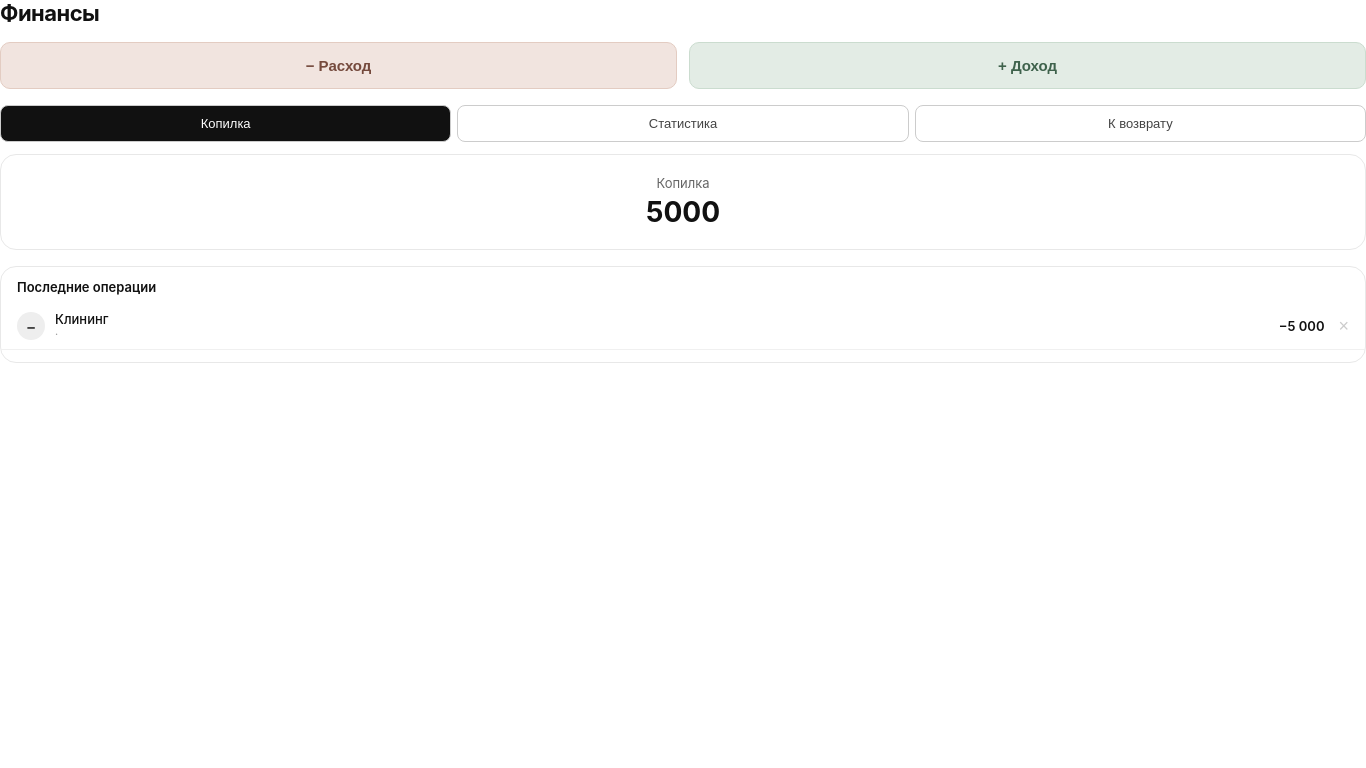
Test: late identity lookup does not replace a chosen payer or the bank label
Click the button "− Расход". click: [338, 66]
box: [0,42,677,89]
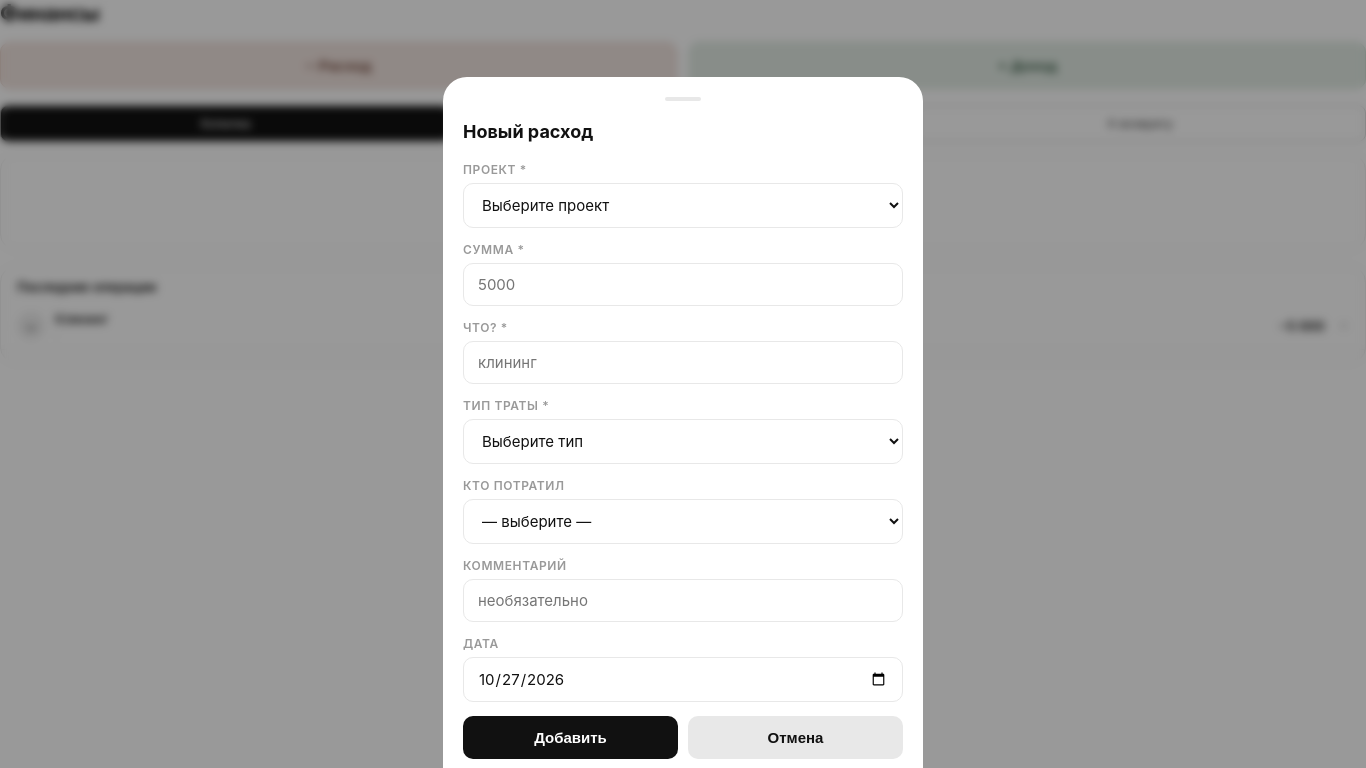
Select "Анна Иванова" in the dropdown with id "expense-who". click: [683, 521]
box: [463,499,903,544]
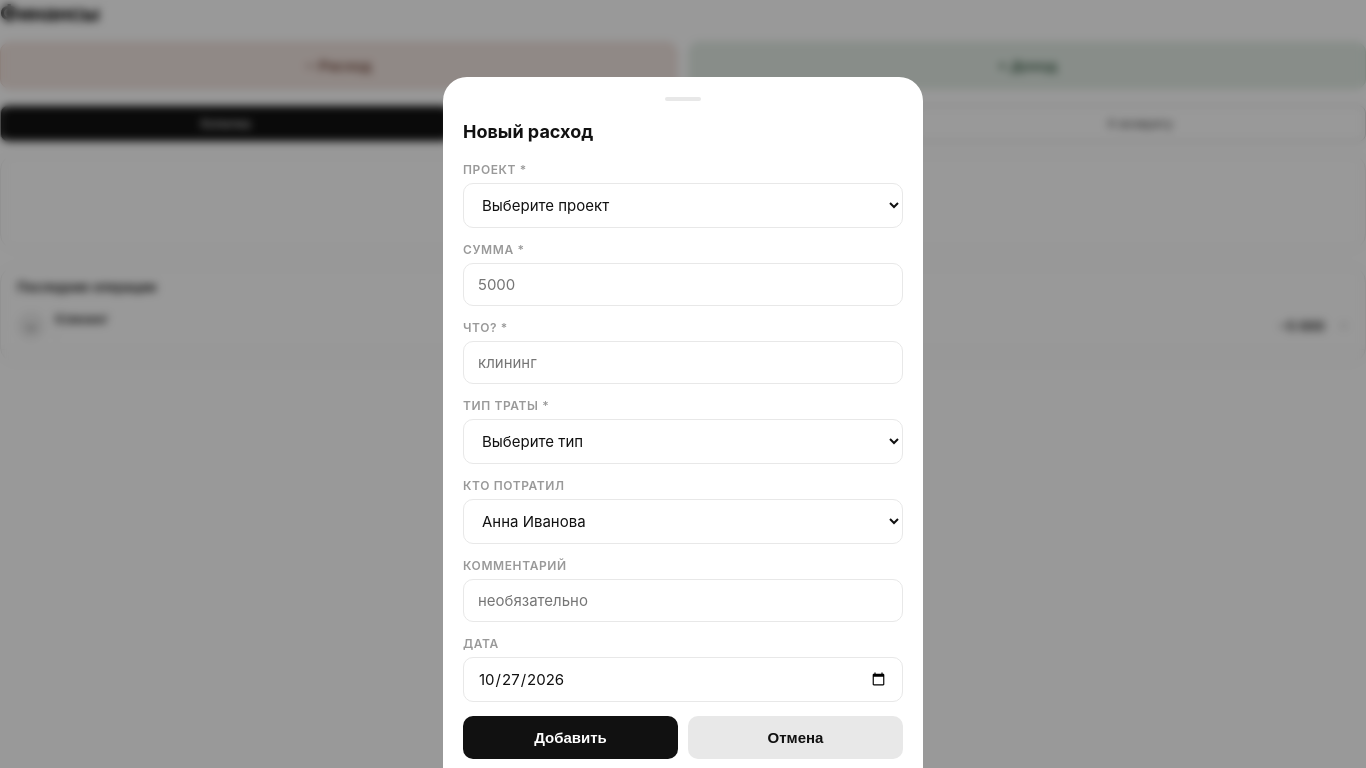
Select "Трата со счета ФоШу" in the dropdown with id "expense-type". click: [683, 441]
box: [463,419,903,464]
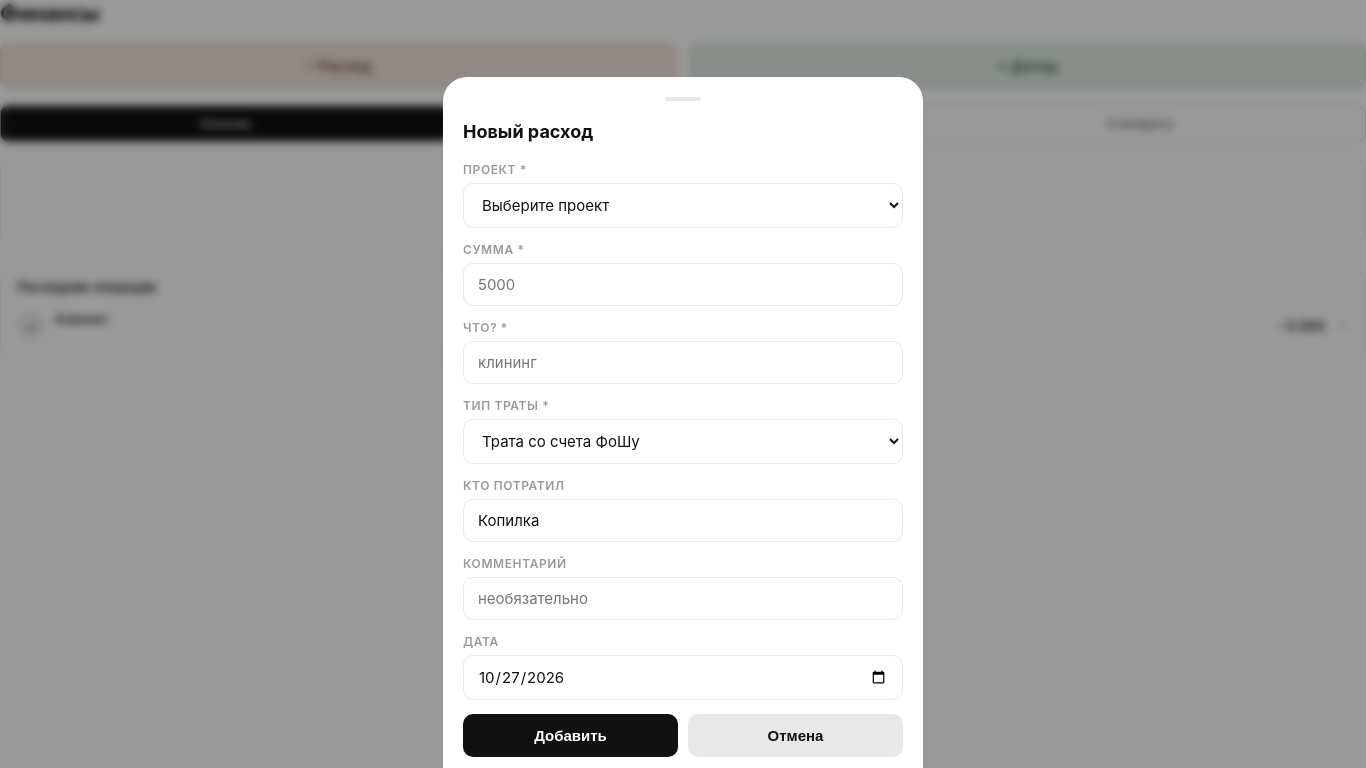
Result: the field with id "expense-who" holds "Копилка" at [463,499,903,542]
Select "Личные траты" in the dropdown with id "expense-type". click: [683, 441]
box: [463,419,903,464]
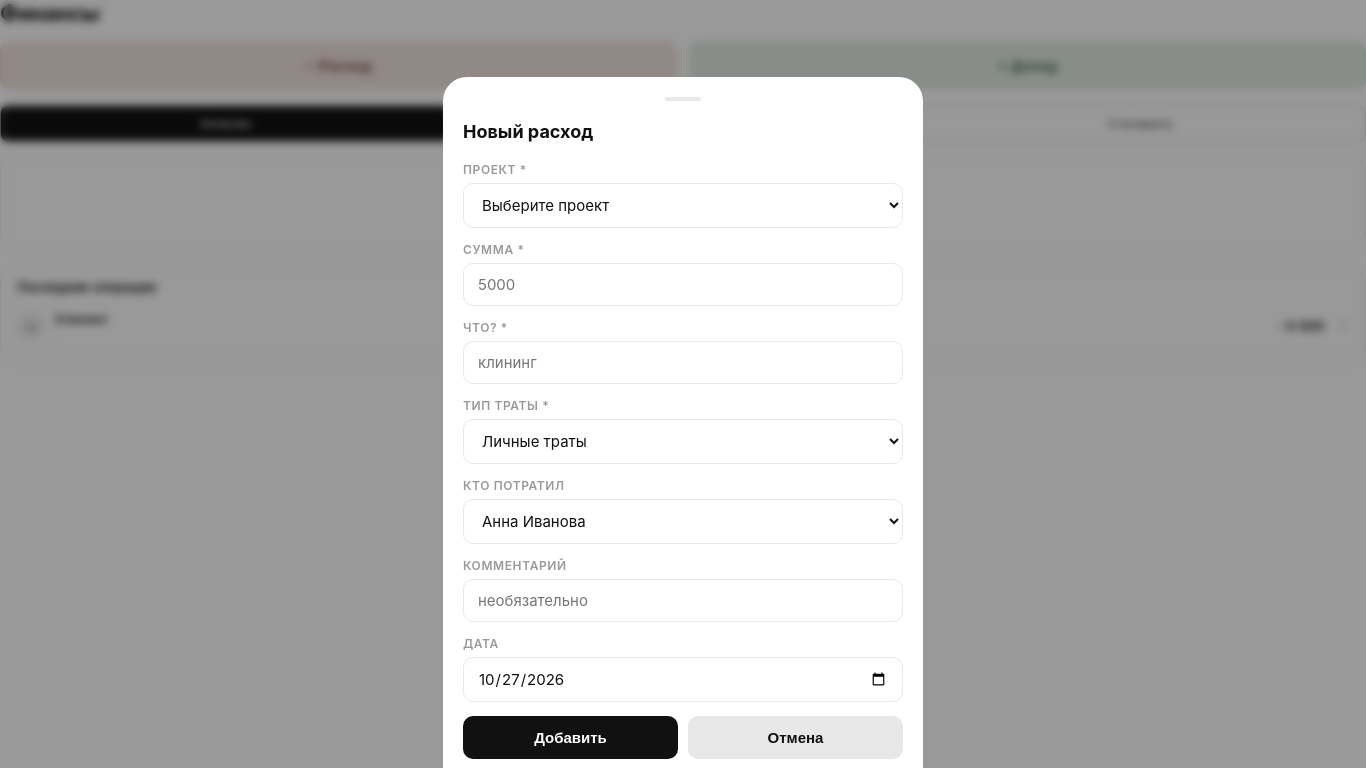
Result: the dropdown with id "expense-who" shows "Анна Иванова" at [463,499,903,544]
